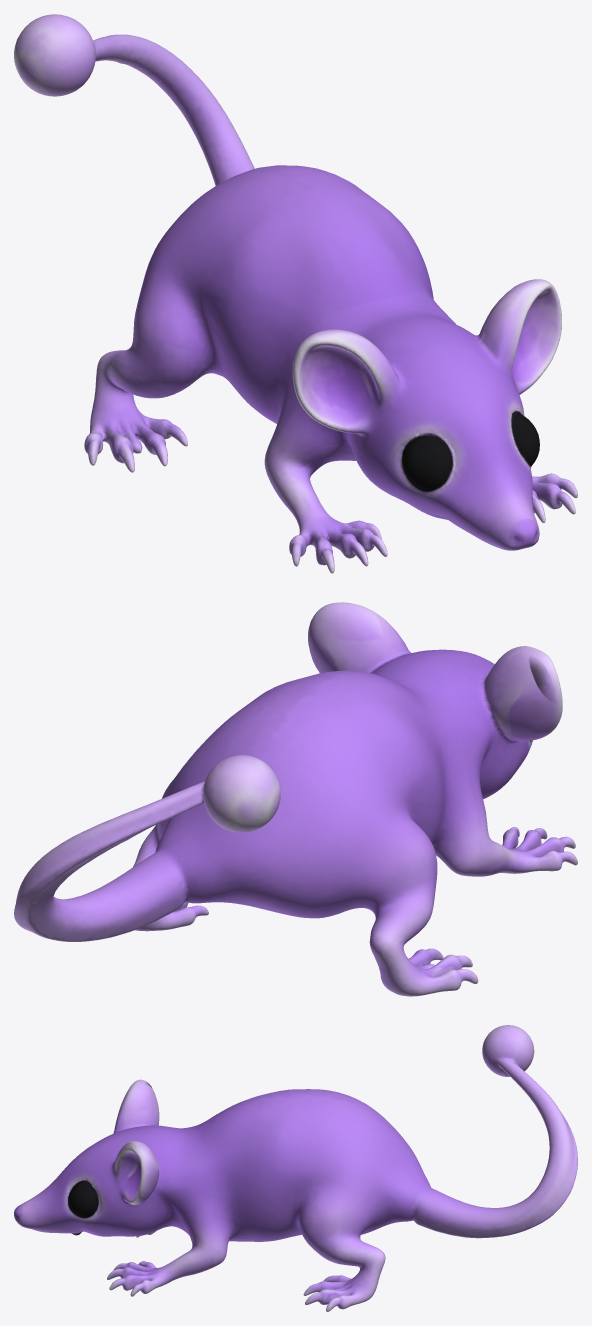
The model's file is Meshy_AI_Crystal_Violet_Mouse_0901094918_texture.fbx.
3 views of the same model, one above another, from view 1: azimuth 30°, elevation 25°; view 2: azimuth 150°, elevation 25°; view 3: azimuth 270°, elevation 25° (orthographic). The views are drawn at different scales.
Parts seen in each view (by area): view 1: mesh_node; view 2: mesh_node; view 3: mesh_node.
Part boxes in pixels (x1,y1,x2,y2): mesh_node: (14, 14, 577, 573); mesh_node: (14, 602, 577, 996); mesh_node: (14, 1025, 577, 1311).
Size of the model in its own units: 93.65 by 74.65 by 189.
1 material, 1 textured.
